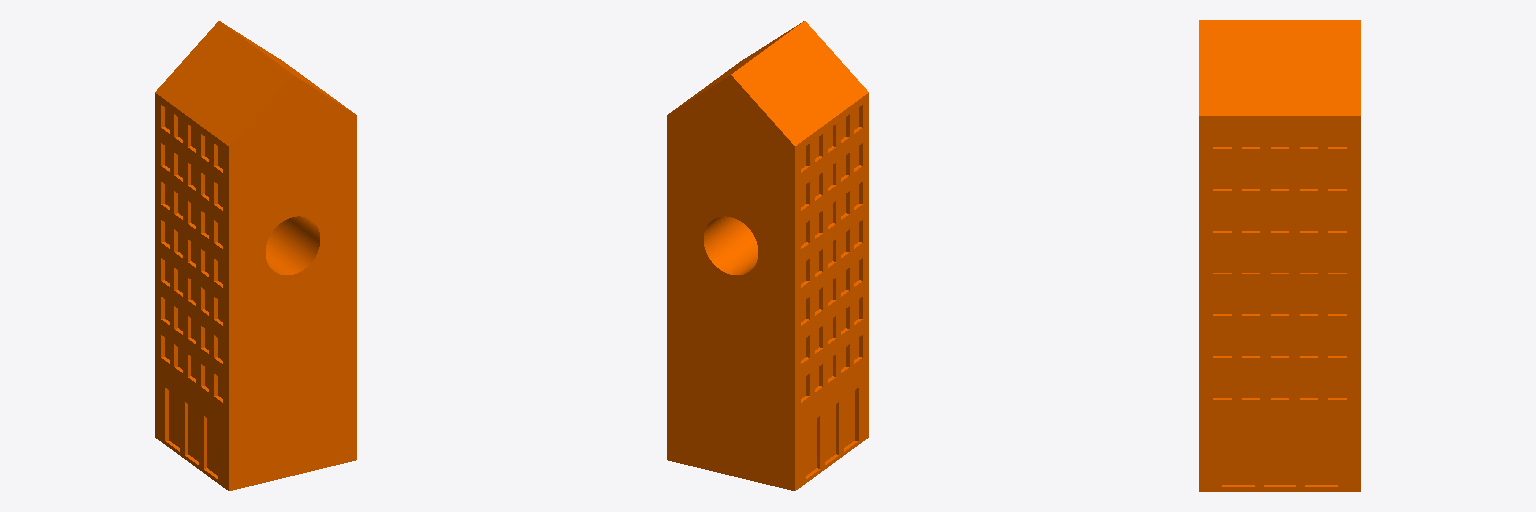
URDF robot description (cube.urdf):
<?xml version="1.0" ?>
<robot name="cube.urdf">
    <link name="legobrick">
        <contact>
            <lateral_friction value="1.0"/>
            <rolling_friction value="0.0"/>
            <contact_cfm value="0.0"/>
            <contact_erp value="1.0"/>
        </contact>
        <inertial>
            <origin rpy="0 0 0" xyz="0.0 0.0 0.0"/>
            <mass value="0.1"/>
            <inertia ixx="1" ixy="0" ixz="0" iyy="1" iyz="0" izz="1"/>
        </inertial>
        <visual>
            <origin rpy="1.570796 0 0" xyz="-0.001152925257731959 0.014222730670103094 -0.006989078608247398"/>
            <geometry>
                <mesh filename="Bridge_Roof.obj" scale="0.001 0.001 0.001"/>
            </geometry>
            <material name="yellow">
                <color rgba="1 0.4667 0 1"/>
            </material>
        </visual>
        <collision>
            <origin rpy="1.570796 0 0" xyz="-0.001152925257731959 0.014222730670103094 -0.006989078608247398"/>
            <geometry>
                <mesh filename="Bridge_Roof.obj" scale="0.001 0.001 0.001"/>
            </geometry>
        </collision>
    </link>
</robot>

--- What the picture shows (computed from the rendered views, not written in the file) ---
3 views of the same robot in one strip: view 1: azimuth 30°, elevation 25°; view 2: azimuth 150°, elevation 25°; view 3: azimuth 270°, elevation 25° (orthographic).
Model cube.urdf with 1 links and 0 joints (none), rooted at legobrick, posed all joints at 0.
Links seen in each view (by area): view 1: legobrick; view 2: legobrick; view 3: legobrick.
Link boxes in pixels (x1,y1,x2,y2): legobrick: (155, 21, 356, 490); legobrick: (667, 21, 868, 490); legobrick: (1199, 20, 1360, 491).
Size in the robot's own frame: 0.035 by 0.035 by 0.1047 metres.
1 mesh visuals loaded from 1 distinct referenced files (1 OBJ).